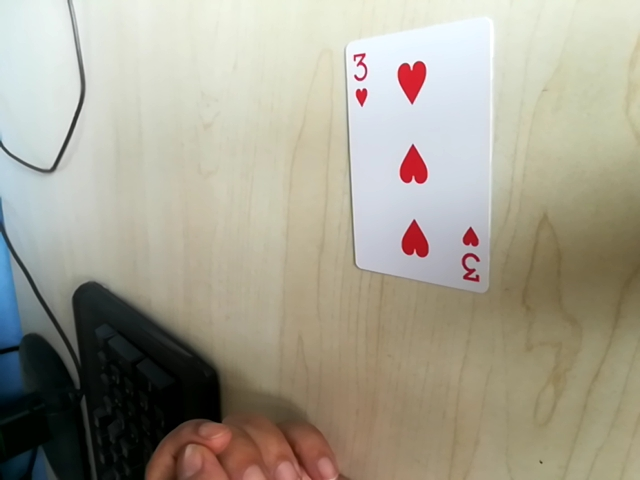hx 3: (455, 232, 490, 290), (342, 44, 373, 105)
